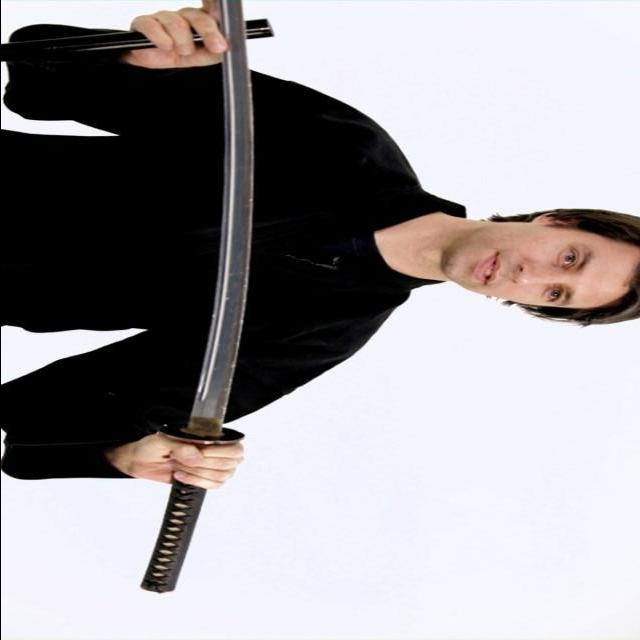katana: (139, 1, 254, 595)
